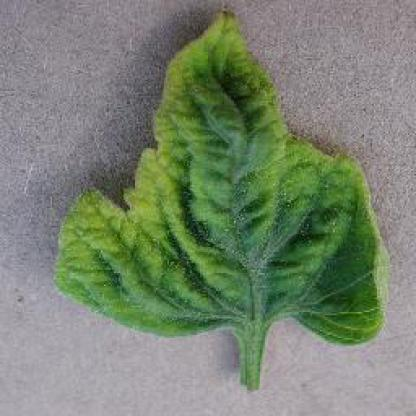bad leaf: (119, 14, 352, 390), (90, 138, 382, 312)
